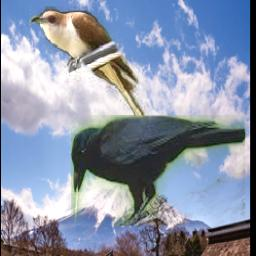Crow: (72, 115, 246, 226)
Cuckoo: (29, 8, 165, 154)
